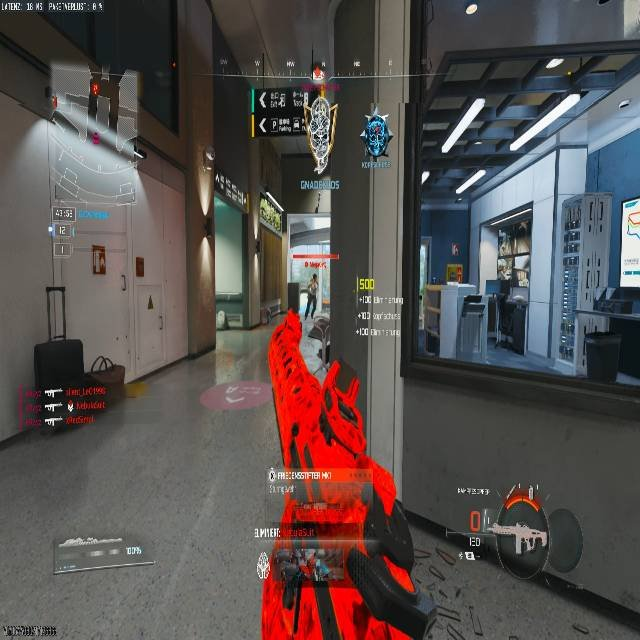head: (310, 273, 317, 281)
player: (260, 308, 435, 635), (358, 109, 392, 167), (305, 273, 319, 318)
